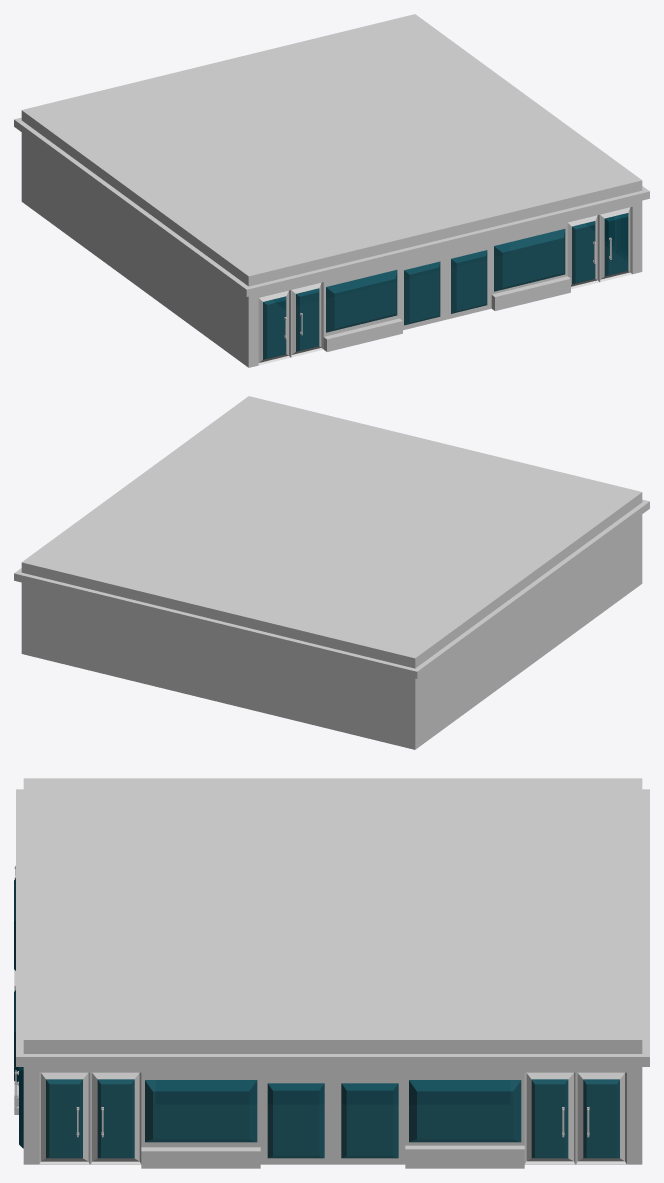
File: building_office_corner_02_base.fbx
3 renders of one model, top to bottom at view 1: azimuth 30°, elevation 25°; view 2: azimuth 150°, elevation 25°; view 3: azimuth 270°, elevation 25°, orthographic. The views are drawn at different scales.
Parts seen in each view (by area): view 1: building_office_corner_02_base, building_office_corner_02_base_glass; view 2: building_office_corner_02_base; view 3: building_office_corner_02_base, building_office_corner_02_base_glass.
Part boxes in pixels (x1,y1,x2,y2): building_office_corner_02_base: (14, 14, 649, 367); building_office_corner_02_base_glass: (263, 213, 628, 359); building_office_corner_02_base: (14, 396, 649, 749); building_office_corner_02_base: (14, 778, 649, 1168); building_office_corner_02_base_glass: (14, 878, 619, 1158).
Bounding box in the file's own units: 1850 × 400 × 1850.
